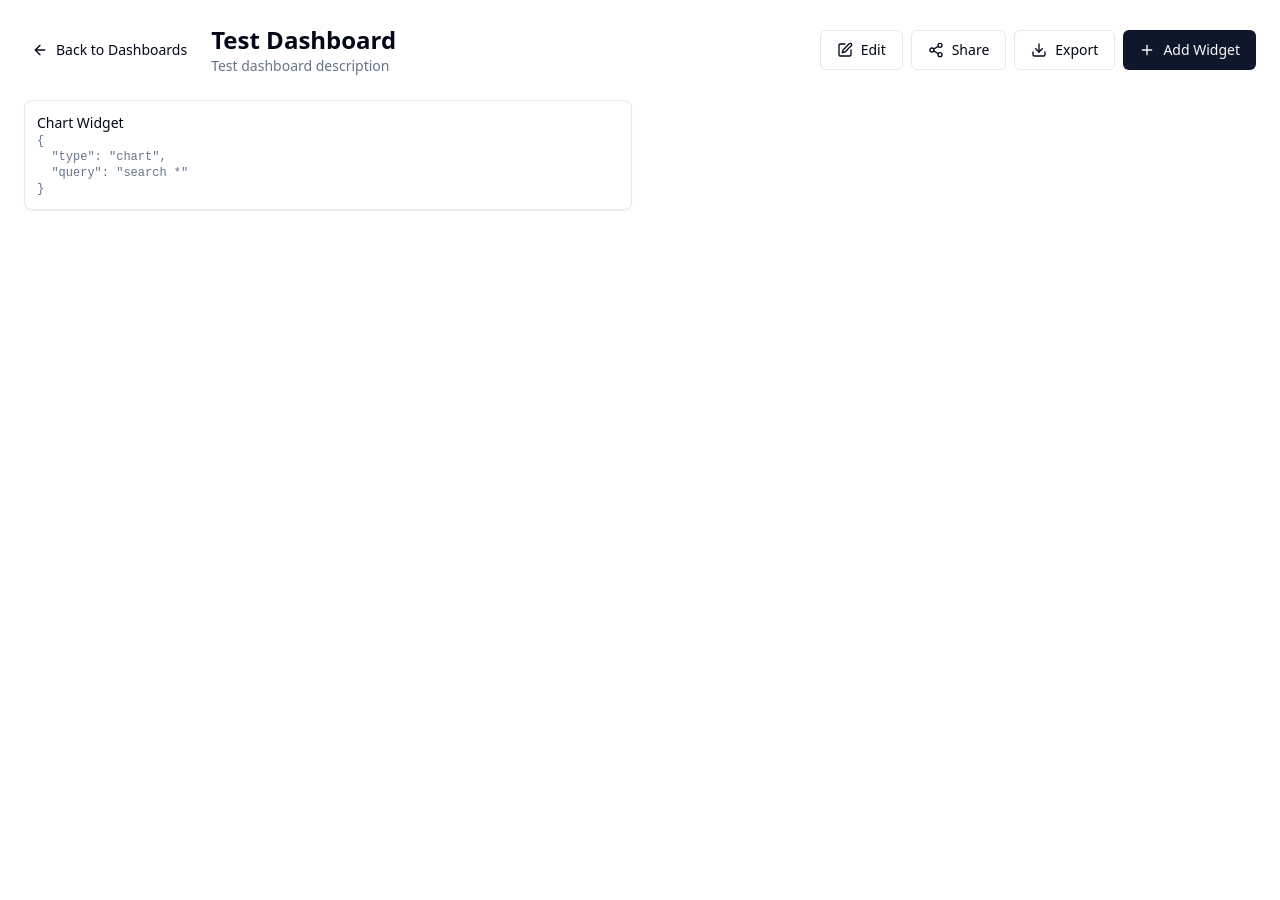
it: Dashboard Export › opens export modal when export button is clicked
Expected: the heading "Test Dashboard" is shown, [211,24,396,56]
Click the button "Export".
click(1065, 50)  # box [1014,30,1115,70]
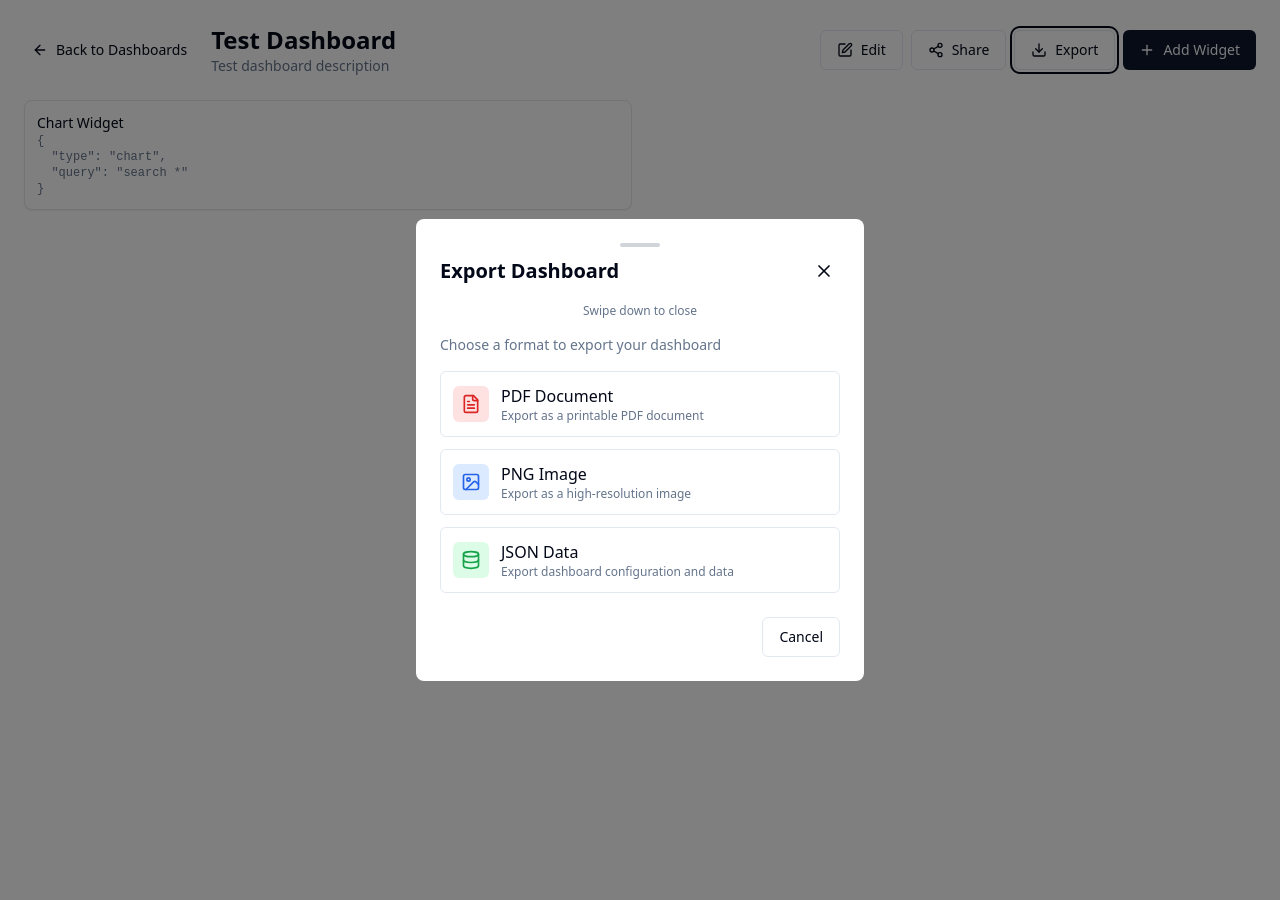
Expected: the heading "Export Dashboard" is shown, [440,257,619,285]
Expected: the text "Choose a format to export your dashboard" is shown, [440,335,721,354]
